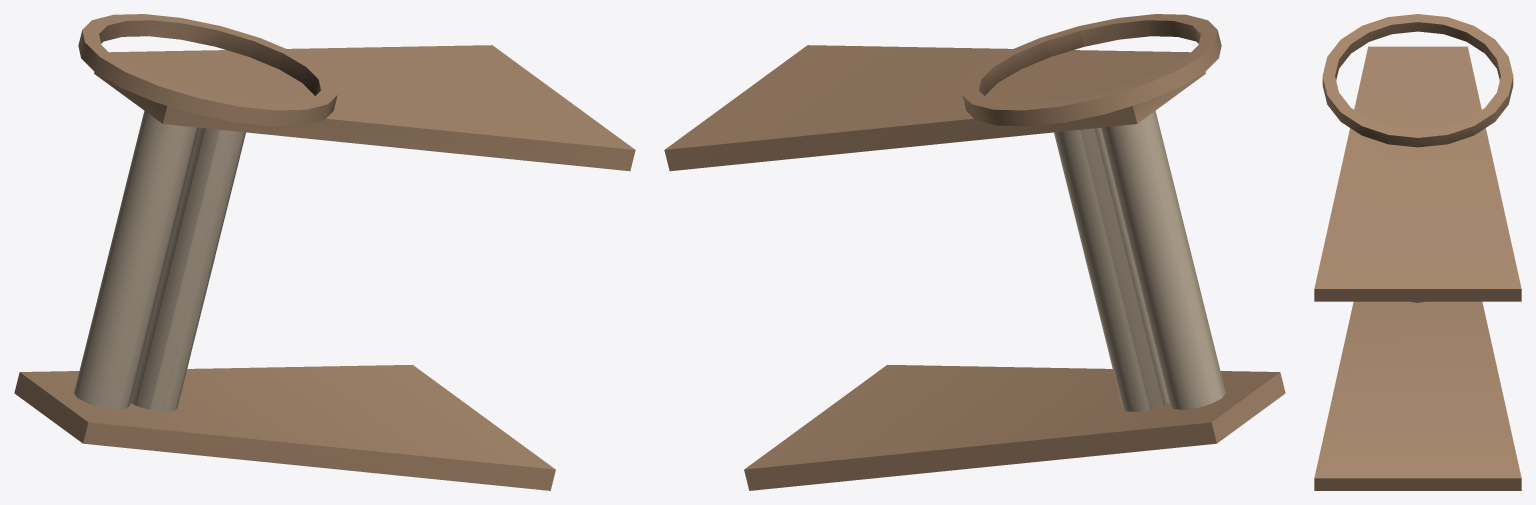
Rendered from mangle.glb.
3 views of the same model, side by side, from view 1: azimuth 30°, elevation 25°; view 2: azimuth 150°, elevation 25°; view 3: azimuth 270°, elevation 25° (orthographic). The views are drawn at different scales.
Visible parts, largest first — view 1: static; view 2: static; view 3: static.
Boxes of the visible parts, x1=… form: static: x1=14, y1=14, x2=635, y2=490; static: x1=664, y1=14, x2=1285, y2=490; static: x1=1314, y1=14, x2=1521, y2=490.
Size of the model in its own units: 1.04 by 0.9126 by 0.5.
